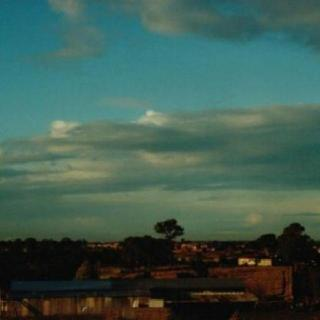Stratocumulus: (0, 105, 320, 212), (0, 0, 320, 66)
